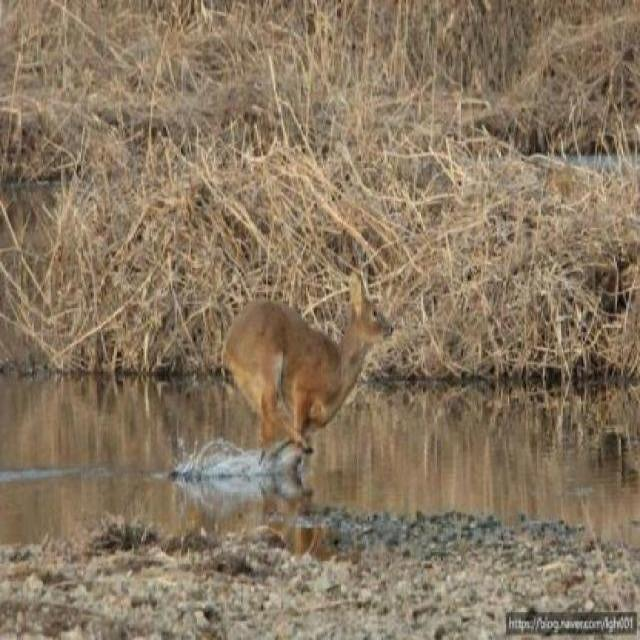deer: (218, 259, 399, 453)
